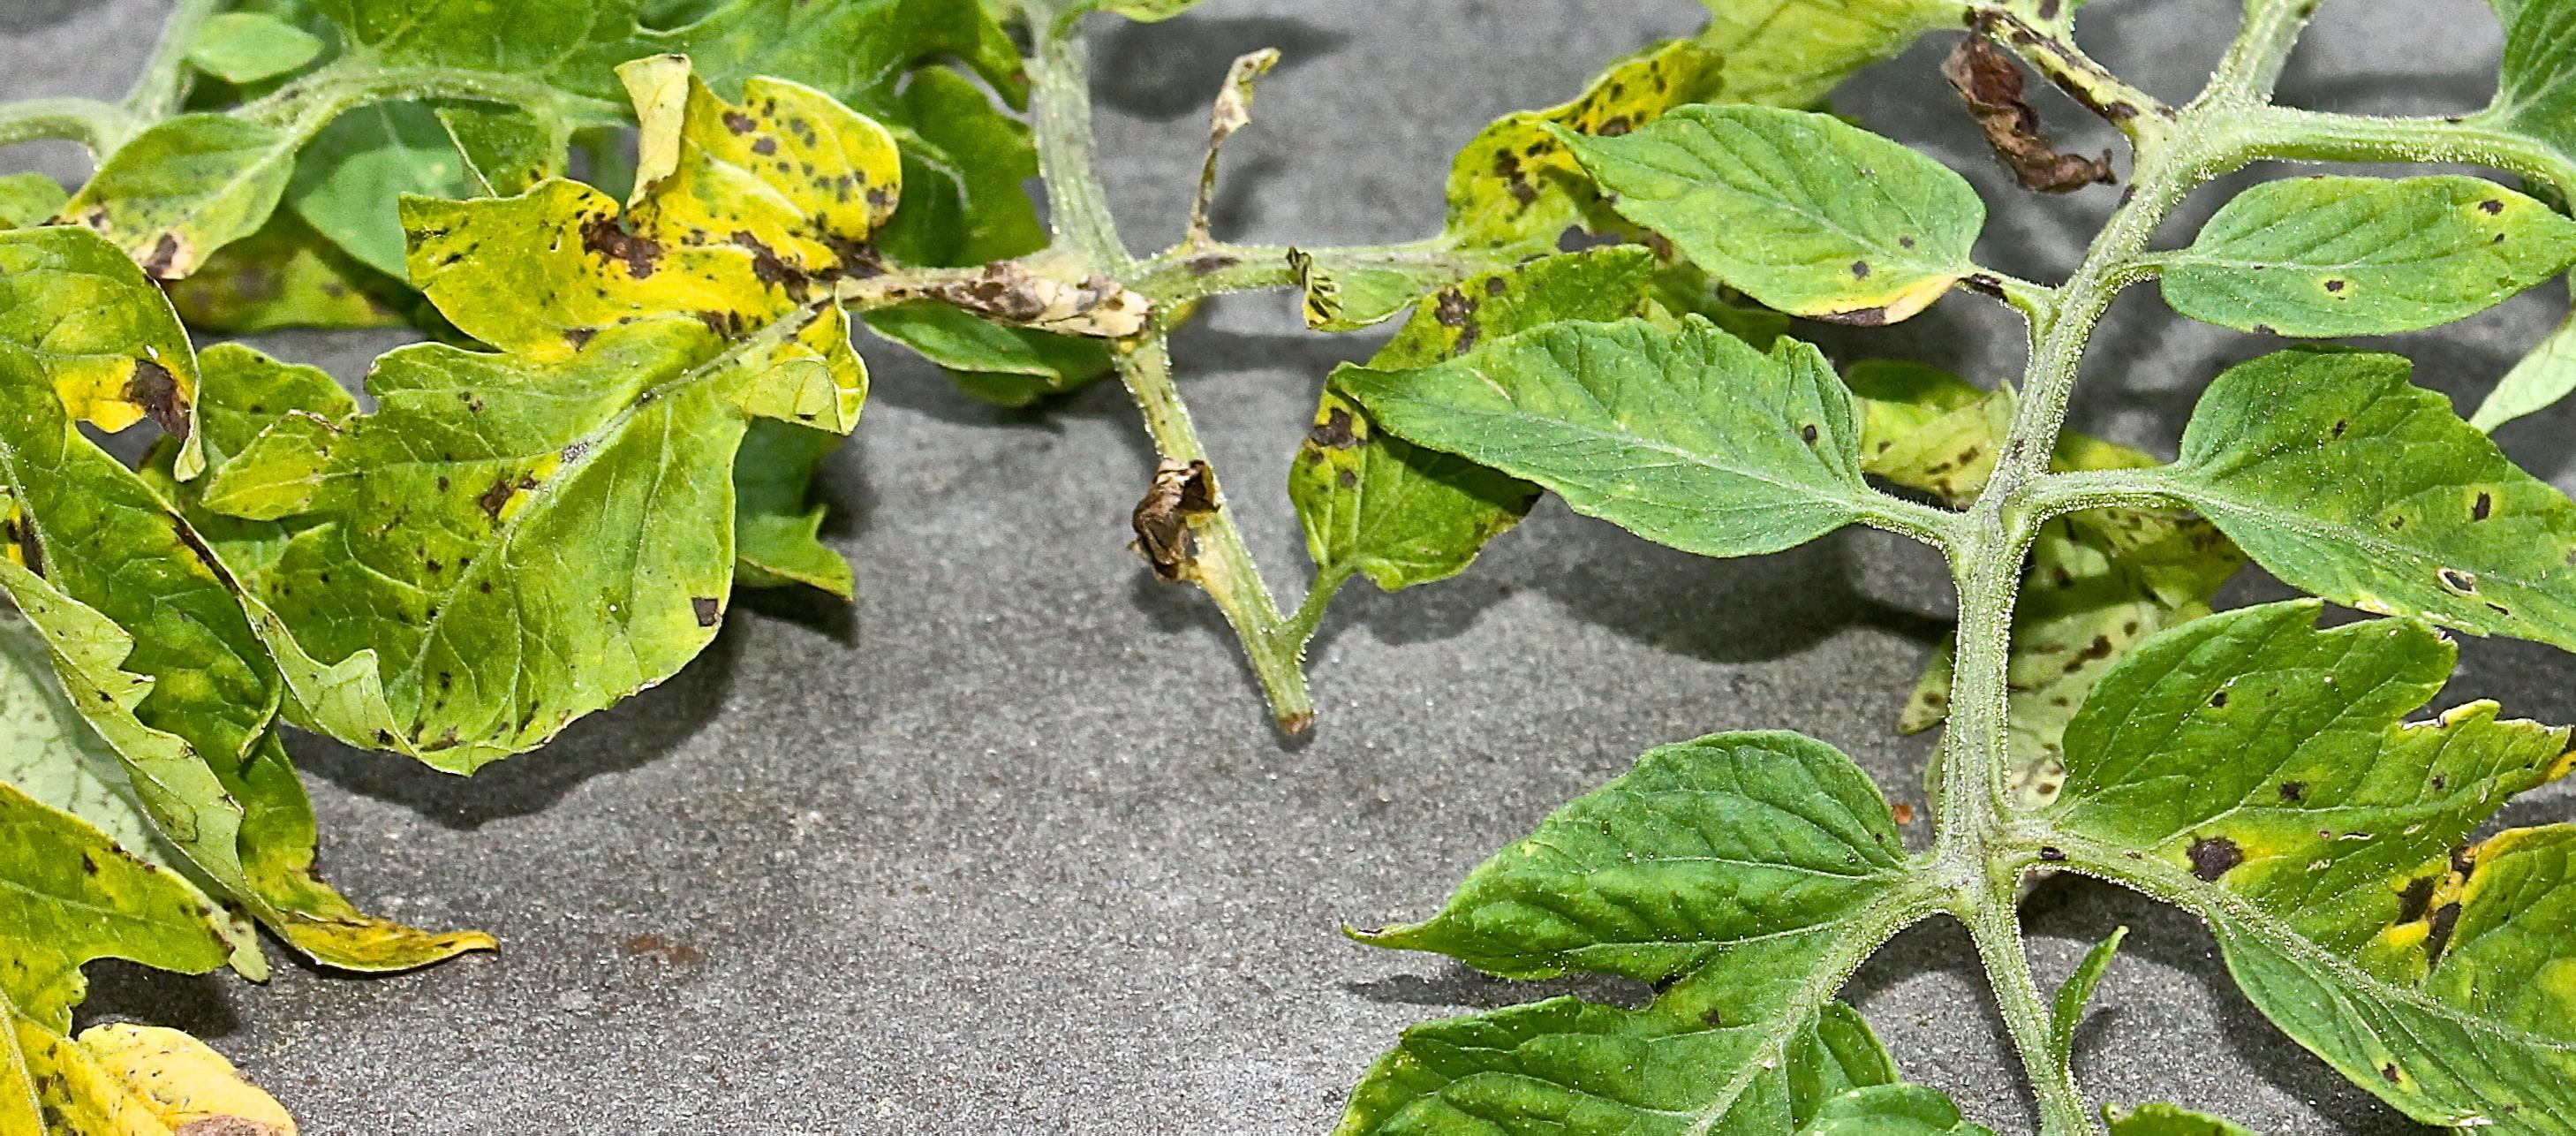Tomato Septoria leaf spot: (269, 105, 974, 751), (1089, 764, 1950, 1136), (2027, 616, 2576, 1136), (0, 638, 404, 1136)
